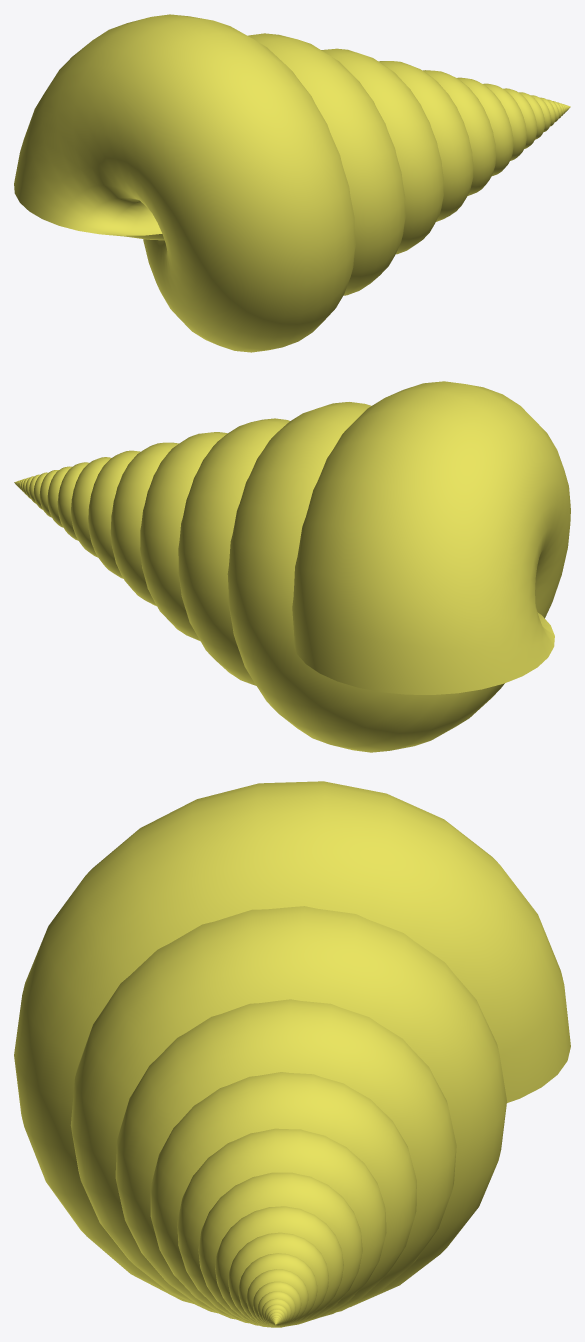
3 renders of one model, top to bottom at view 1: azimuth 30°, elevation 25°; view 2: azimuth 150°, elevation 25°; view 3: azimuth 270°, elevation 25°, orthographic. The views are drawn at different scales.
Parts seen in each view (by area): view 1: t4; view 2: t4; view 3: t4.
Boxes of the visible parts, box(x1,y1,x2,y2) form: t4: box(14, 14, 570, 352); t4: box(14, 381, 570, 752); t4: box(14, 781, 570, 1327).
Size of the model in its own units: 500 by 298 by 318.
